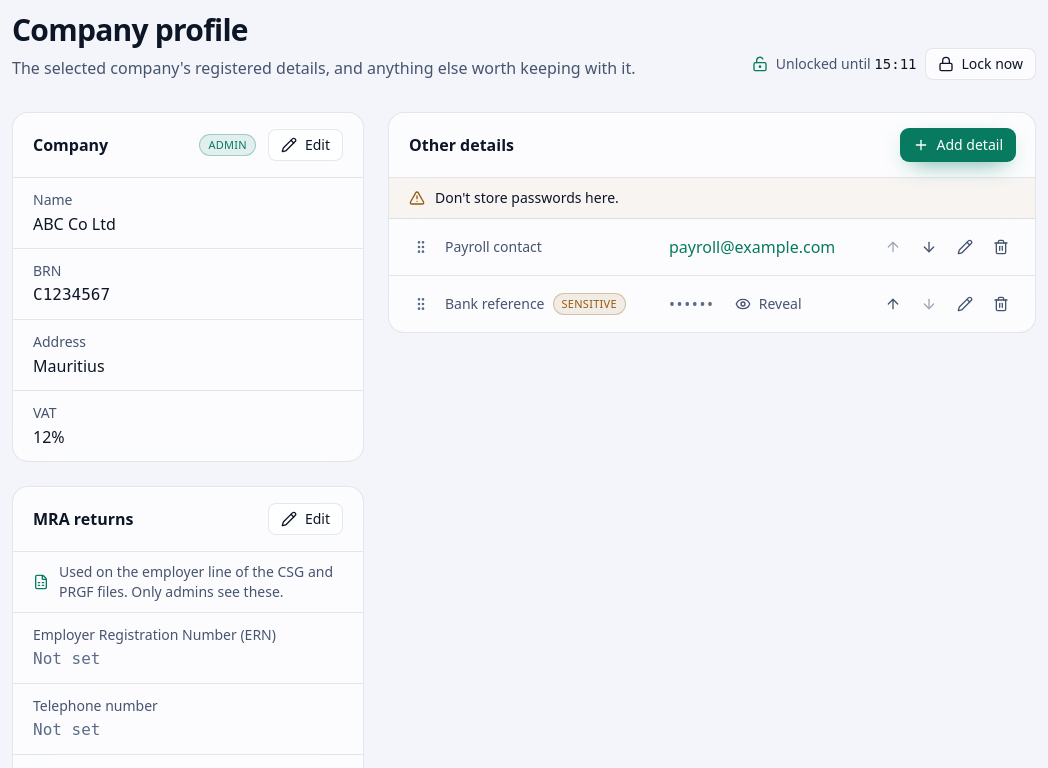
Test case: sensitive details › never reach browser storage
Check: the text "Bank reference" is shown, box [445,294,544,314]
Click the button with aria-label "Reveal Bank reference". click: point(768, 304)
box: [723,288,814,320]
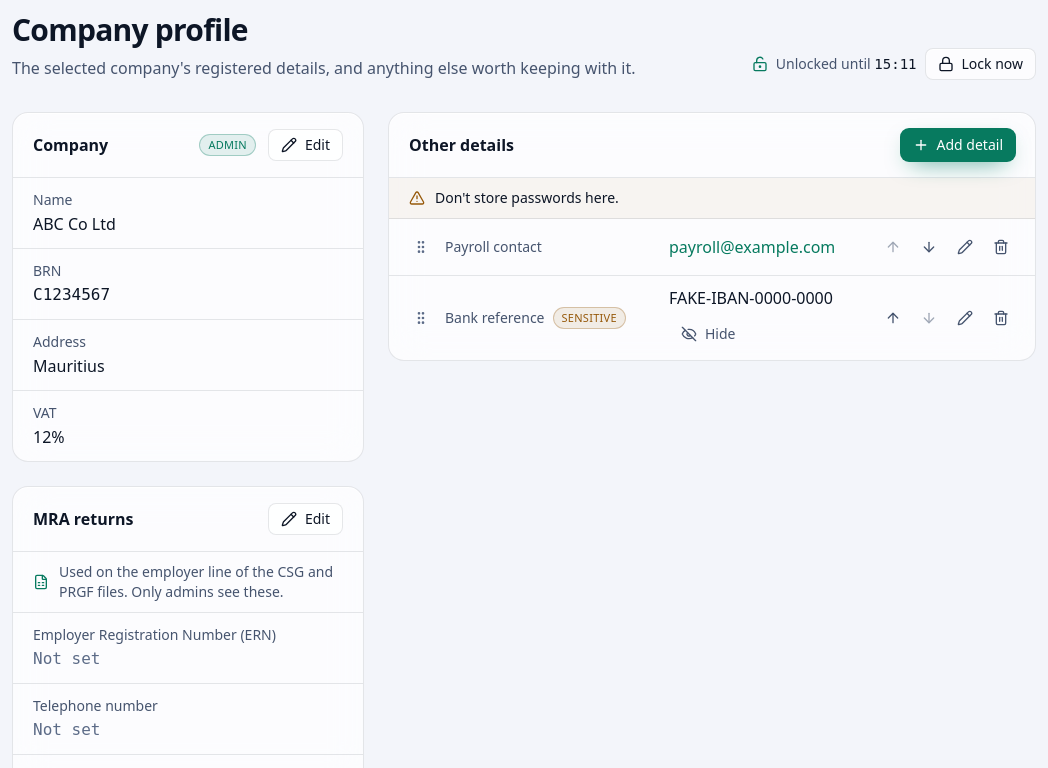
Check: the text "FAKE-IBAN-0000-0000" is shown, box [669,286,833,310]
